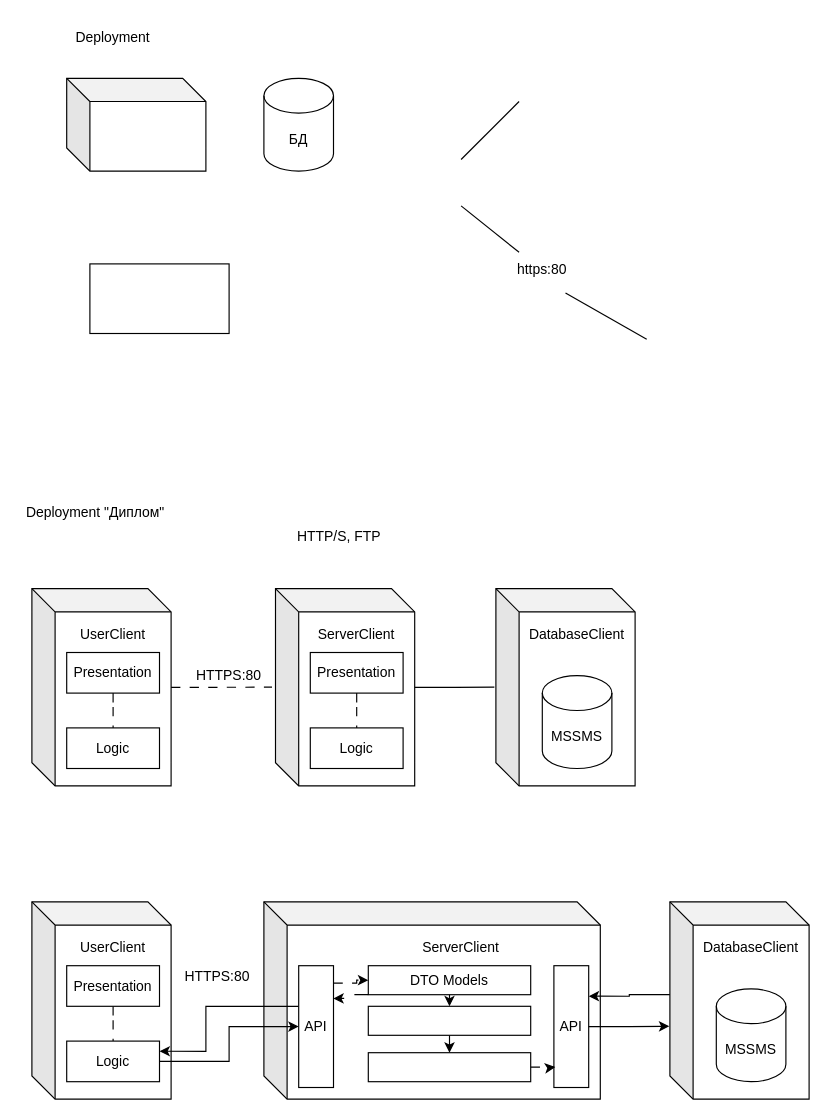
Some shapes in this 829 by 1119 pixel diagram are drawn without their labels. The centre of each missing label's shape, as x and y in pixels:
DataModel: pixel 449 1067
Mapping Model: pixel 449 1020
Подсистема: pixel 159 298
Узел: pixel 136 124
